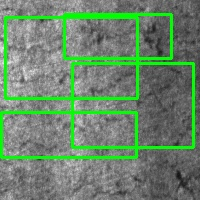crazing: (5, 18, 137, 98), (72, 63, 193, 147), (1, 112, 136, 157), (64, 14, 171, 58)
